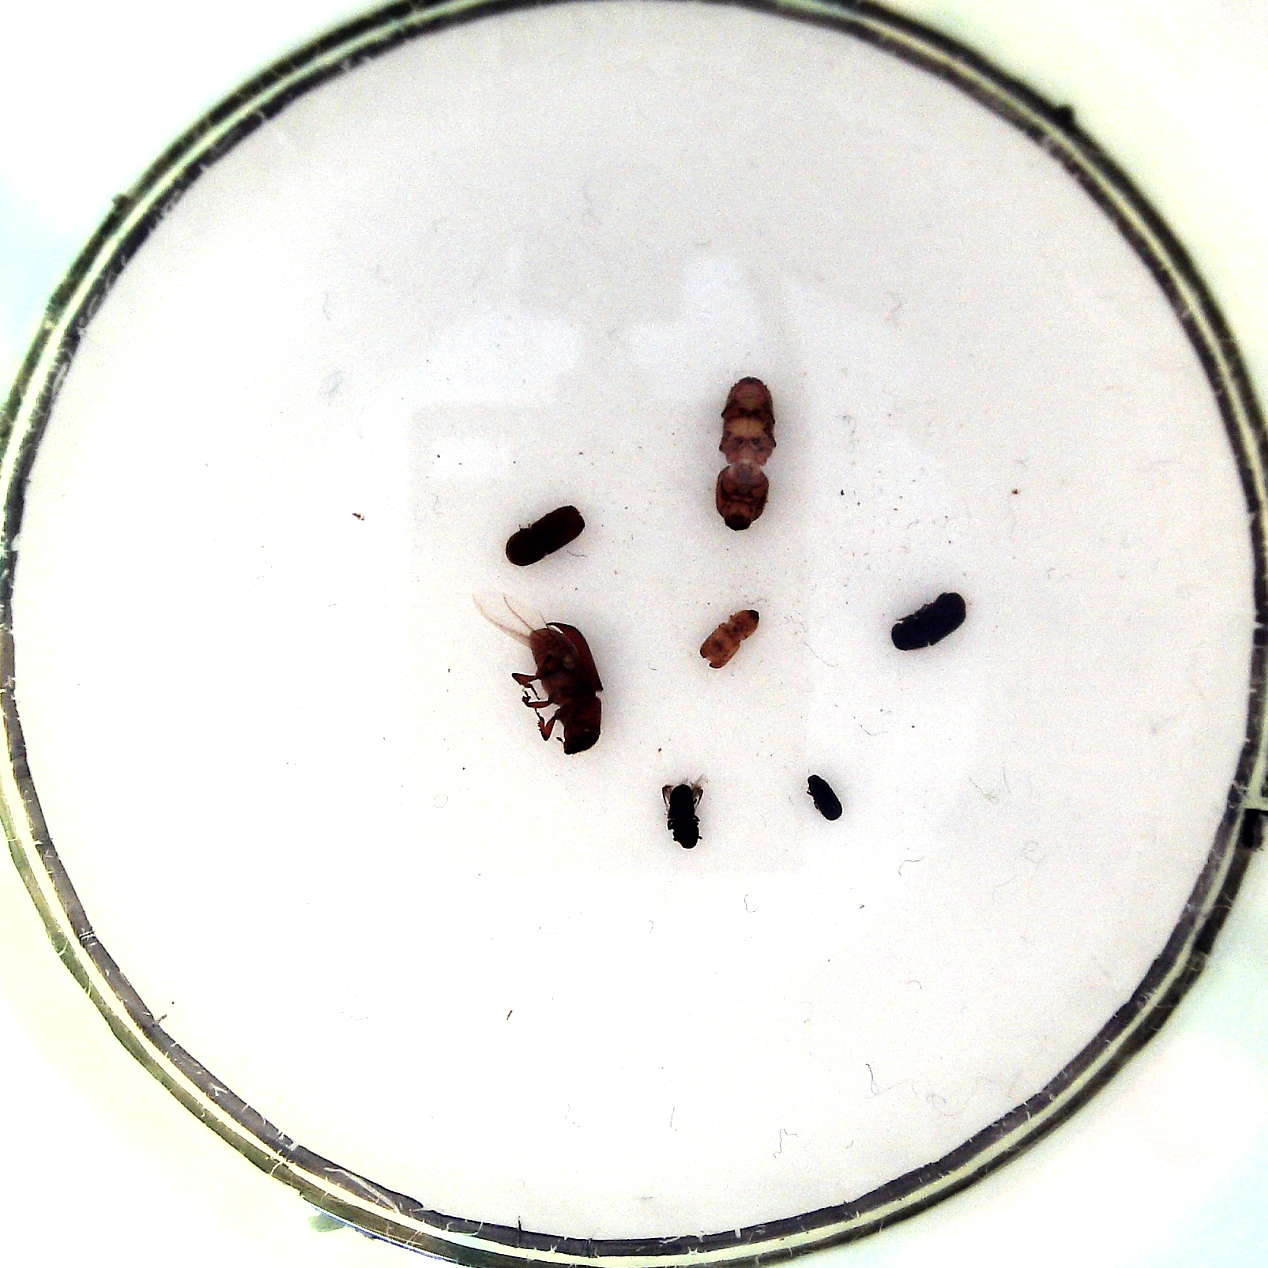Boerner: (703, 367, 779, 539)
Leconte: (466, 588, 608, 761)
Linnaeus: (498, 500, 589, 570)
acuminatus: (697, 605, 764, 670)
armandi: (882, 588, 971, 656)
coleoptera: (657, 762, 712, 853), (795, 769, 851, 828)
